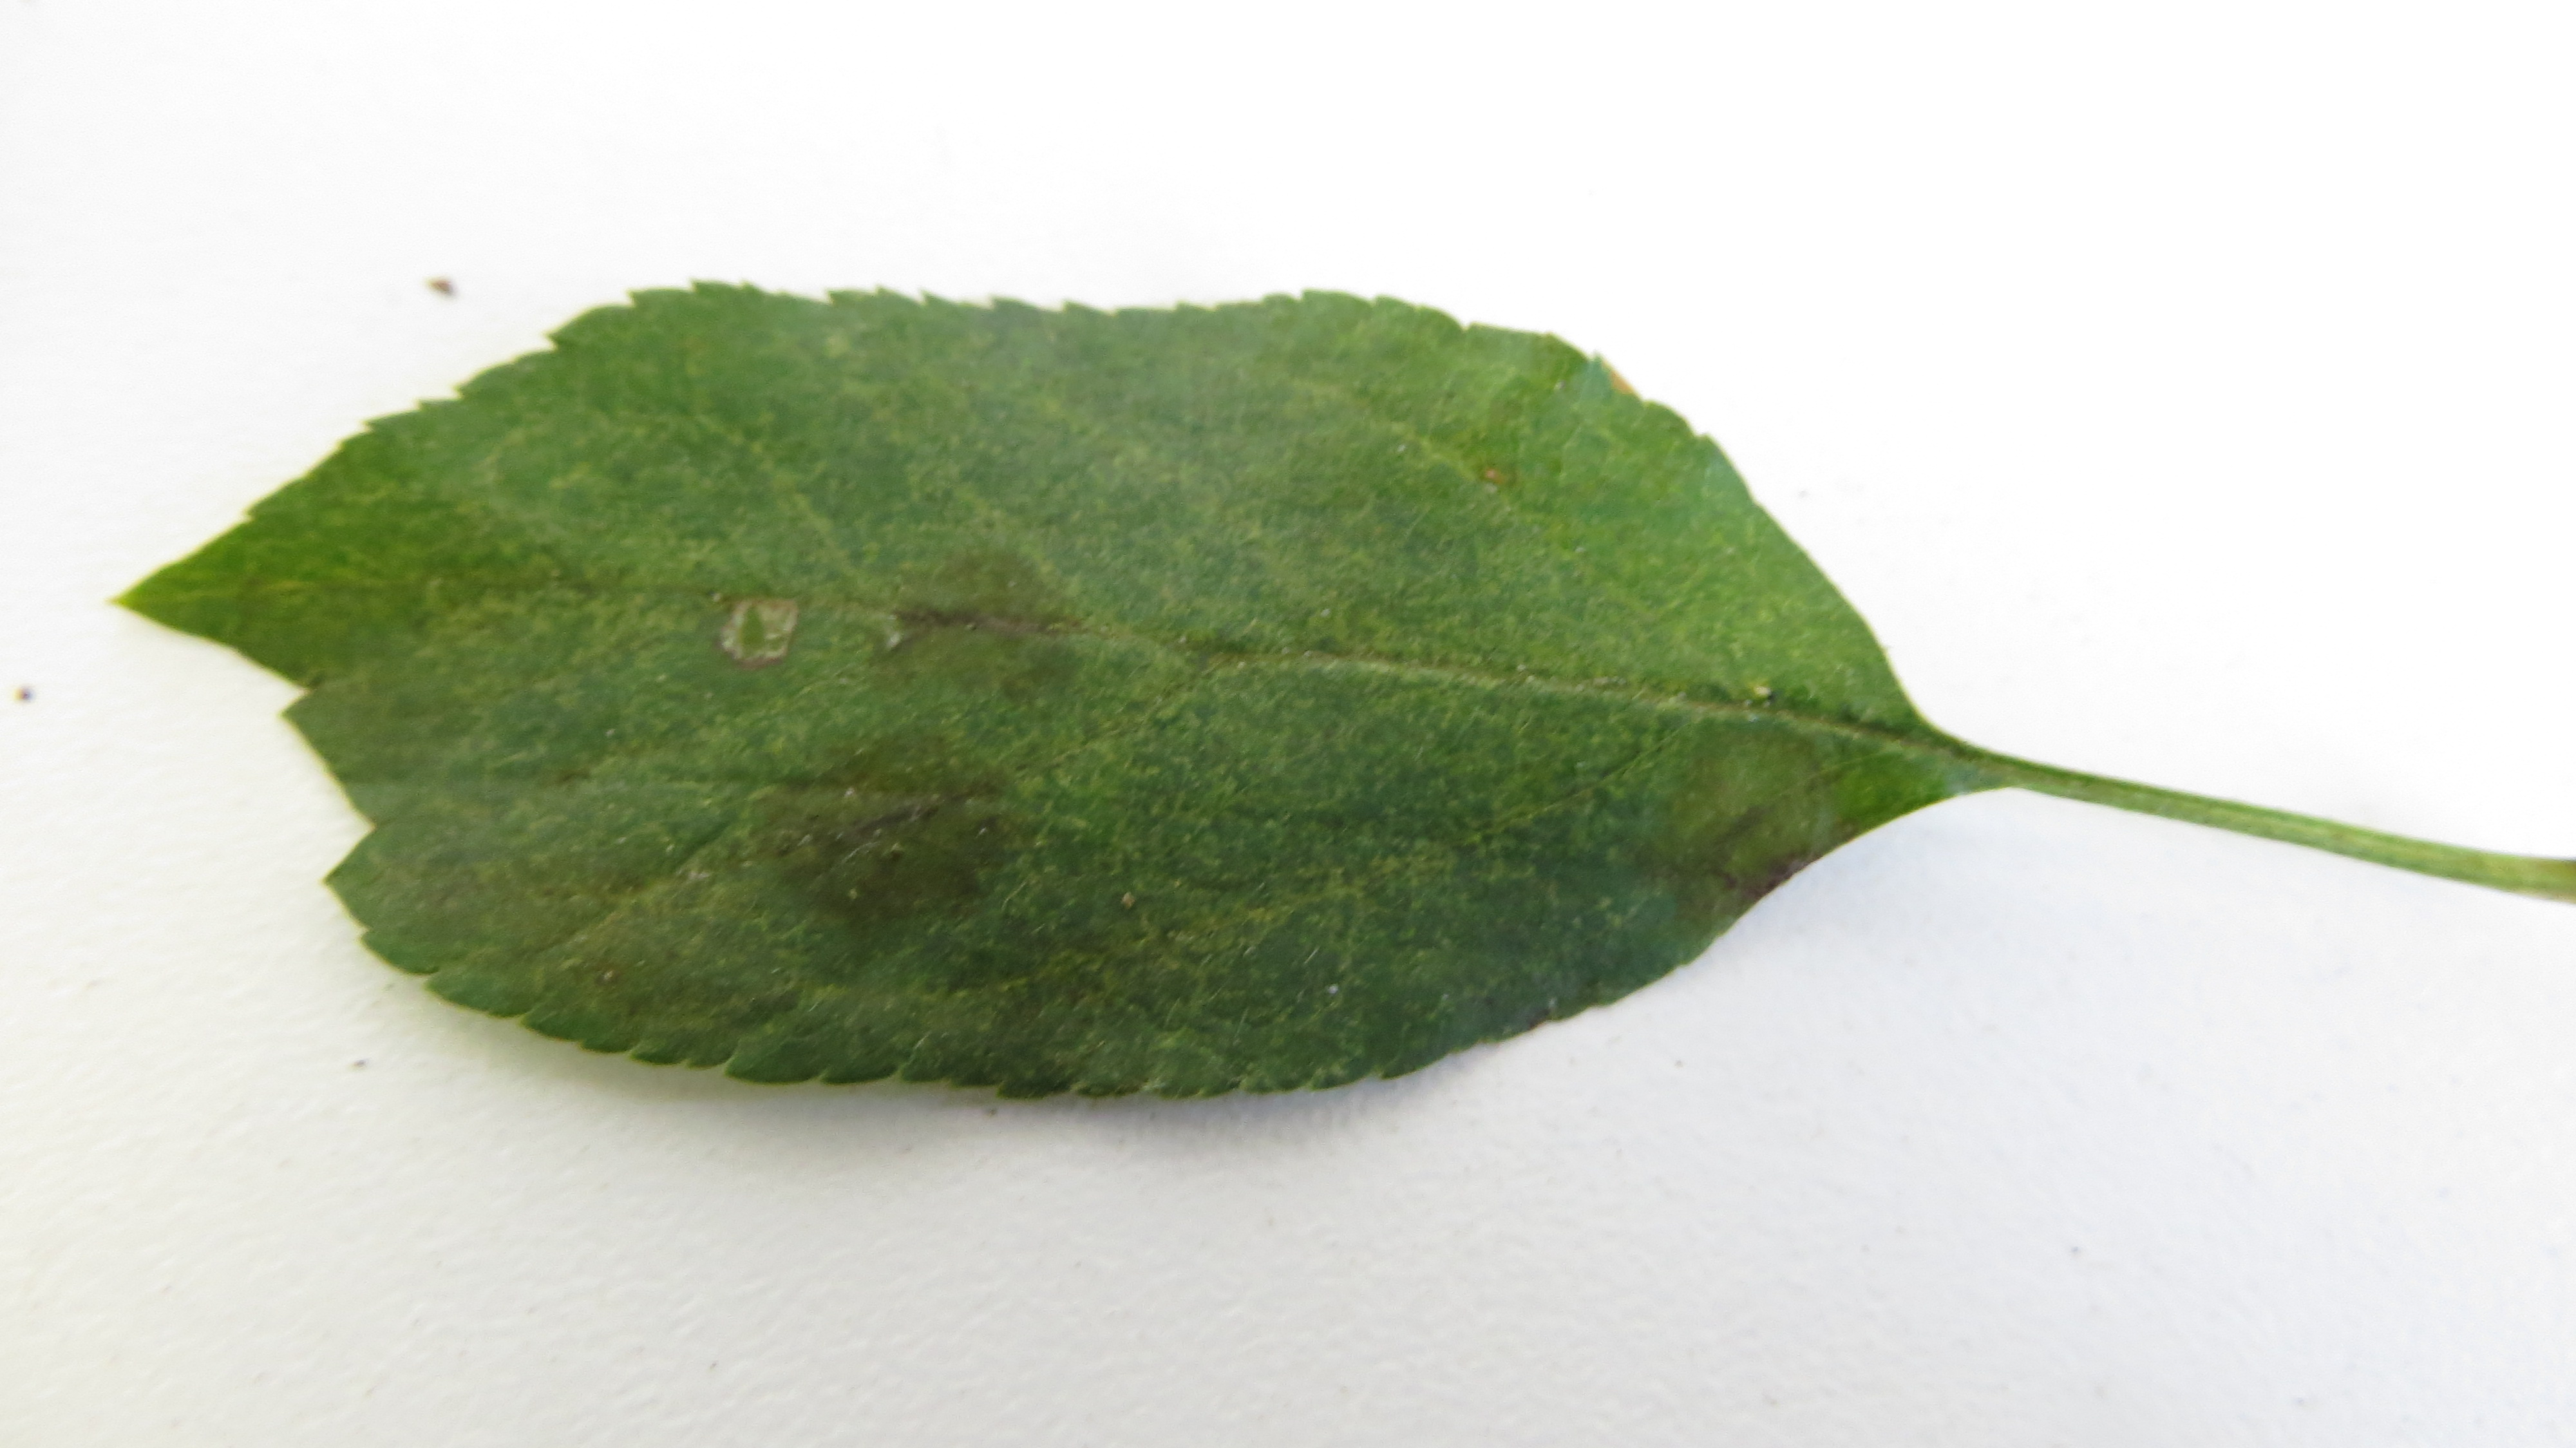sarna: (755, 729, 1028, 944), (874, 535, 1083, 705), (1638, 751, 1835, 920)
